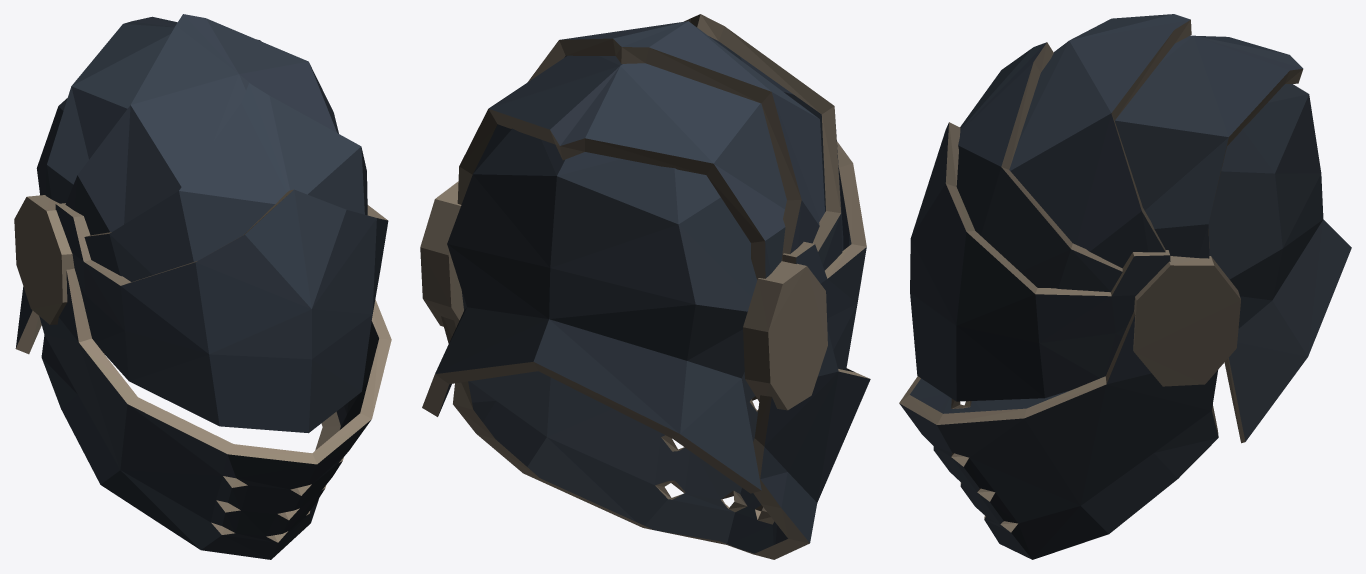
Rendered from dragonslayer_head.glb.
3 renders of one model, left to right at view 1: azimuth 30°, elevation 25°; view 2: azimuth 150°, elevation 25°; view 3: azimuth 270°, elevation 25°, orthographic. The views are drawn at different scales.
Parts seen in each view (by area): view 1: dragonslayer_head; view 2: dragonslayer_head; view 3: dragonslayer_head.
Part boxes in pixels (x1,y1,x2,y2): dragonslayer_head: (14, 14, 391, 559); dragonslayer_head: (420, 14, 870, 559); dragonslayer_head: (899, 14, 1351, 559).
Bounding box in the file's own units: 0.6368 × 1 × 0.7829.
